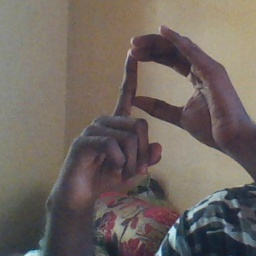P: (86, 25, 224, 180)
